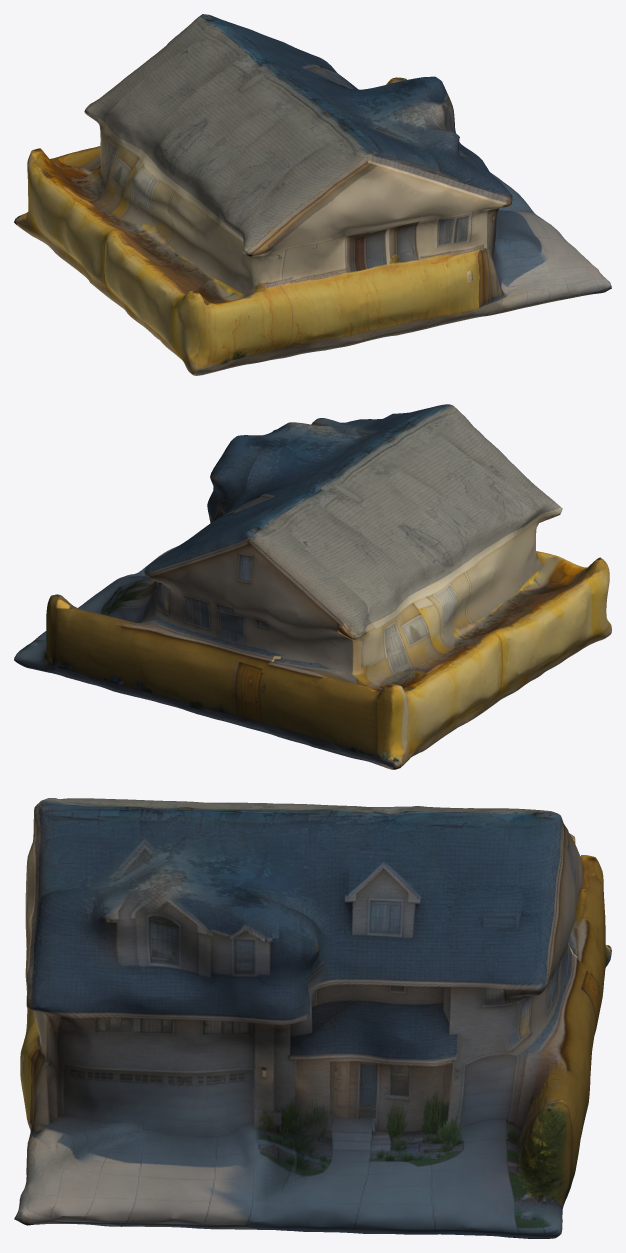
Rendered from Walter_White_home.glb.
The picture shows the model from 3 angles, top to bottom: view 1: azimuth 30°, elevation 25°; view 2: azimuth 150°, elevation 25°; view 3: azimuth 270°, elevation 25°; orthographic projection. The views are drawn at different scales.
Size of the model in its own units: 1.2 by 0.5521 by 1.03.
Materials: 1 (1 with a texture image).
